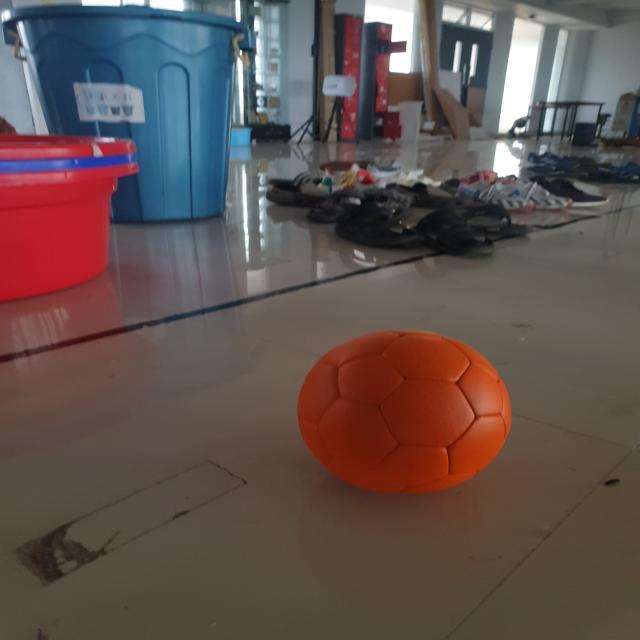bola: (287, 322, 524, 502)
